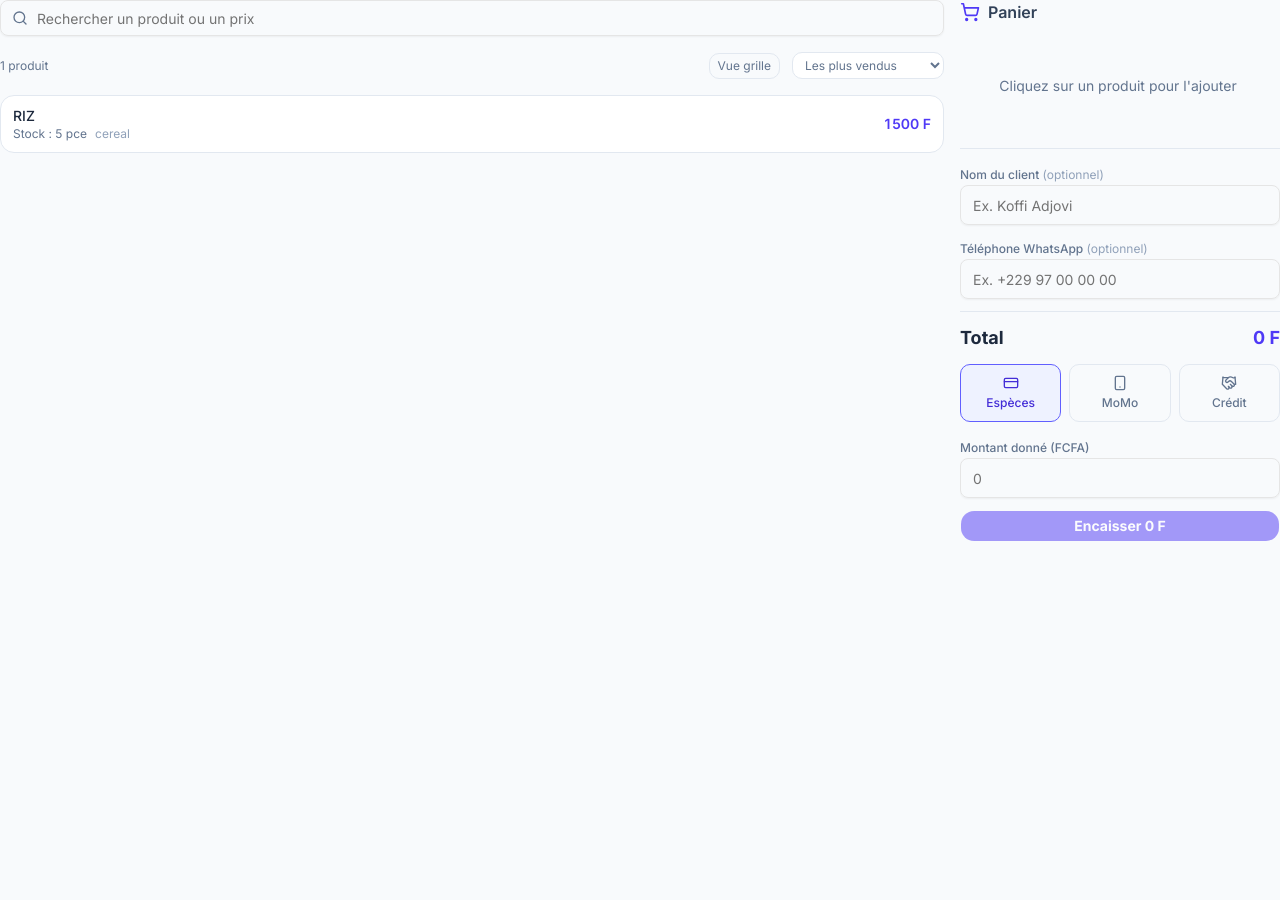
Test: POS — vente hors-ligne › une panne réseau met la vente en file et affiche le reçu hors-ligne
Click the text "RIZ" at [24, 116], box [13,107,35,124]
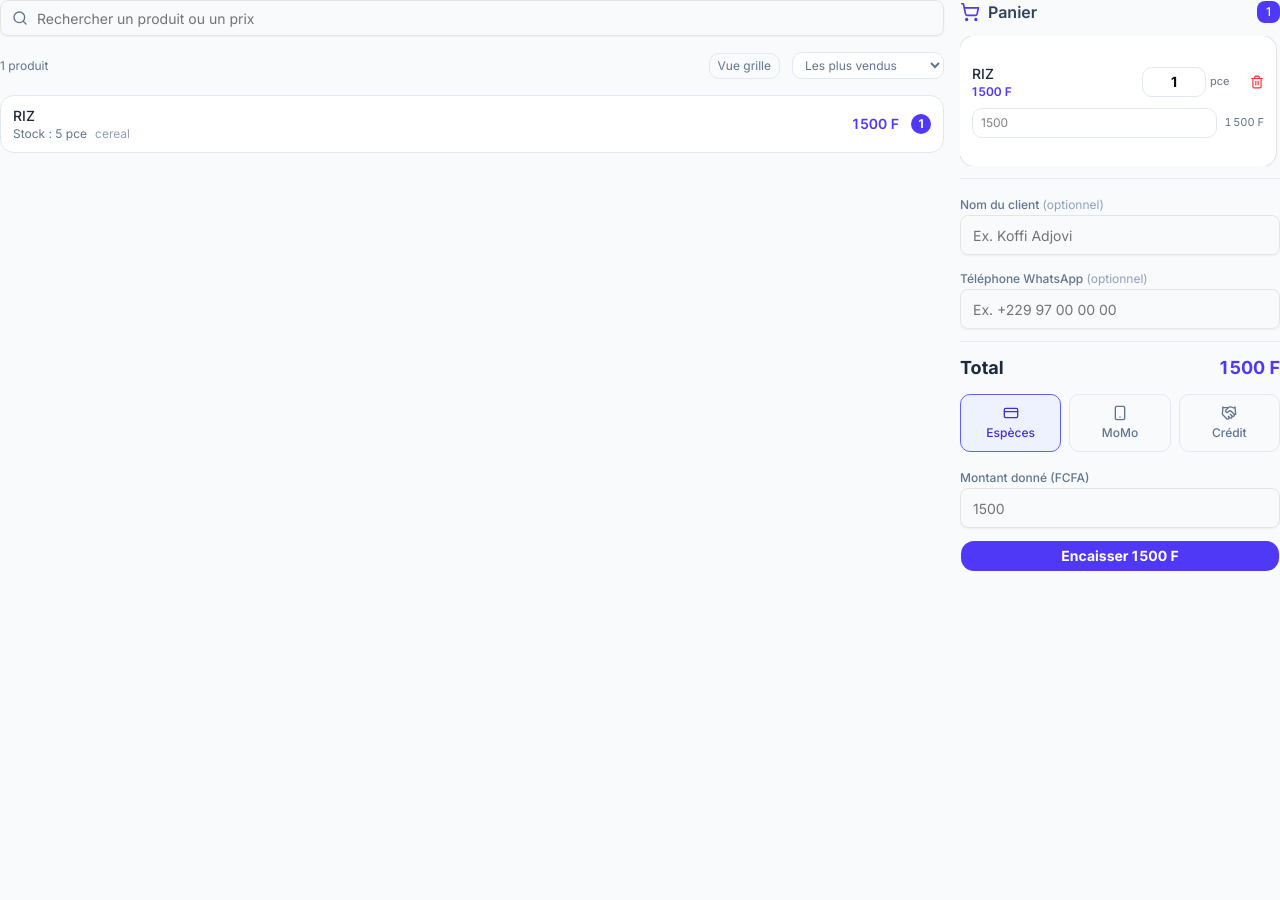
Click the button "Encaisser 1 500 F" at [1120, 556], box [960,540,1279,572]
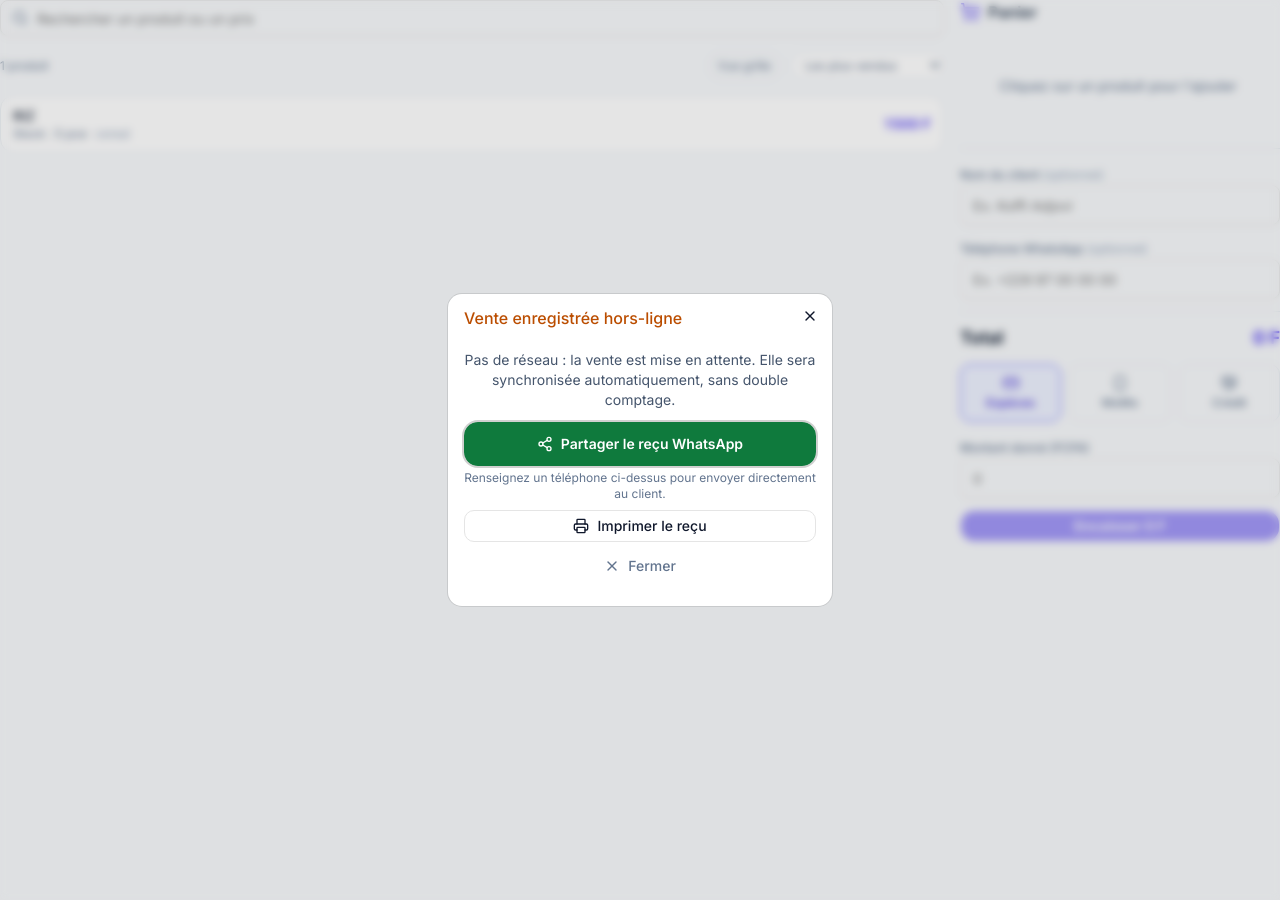
Expected: the heading "Vente enregistrée hors-ligne" is shown, [464,308,682,328]
